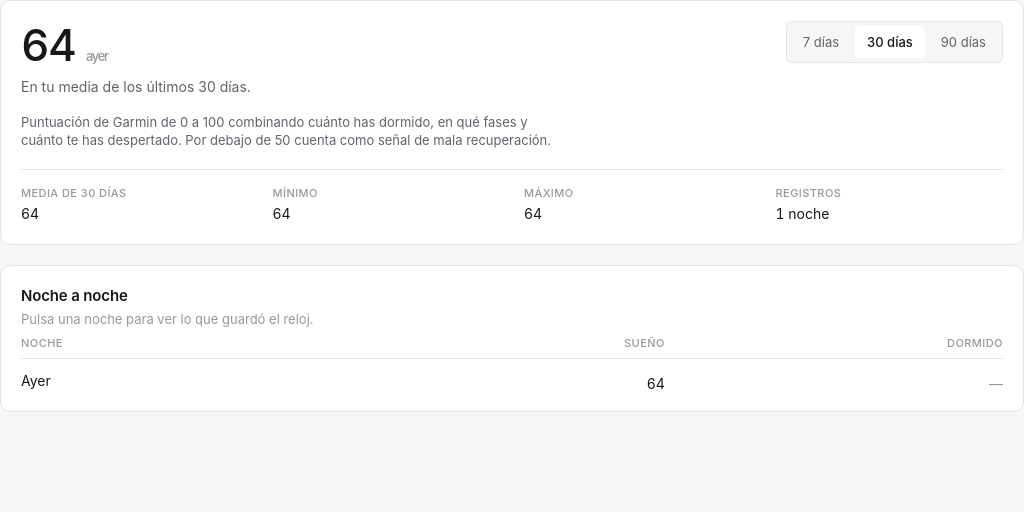
Test case: MetricaDetalle › una noche con puntuación pero sin fases lo dice, en vez de dibujar cuatro fases a cero
Click the button named "ver el detalle de la noche". click: (36, 381)
box: x1=21 y1=371 x2=51 y2=391
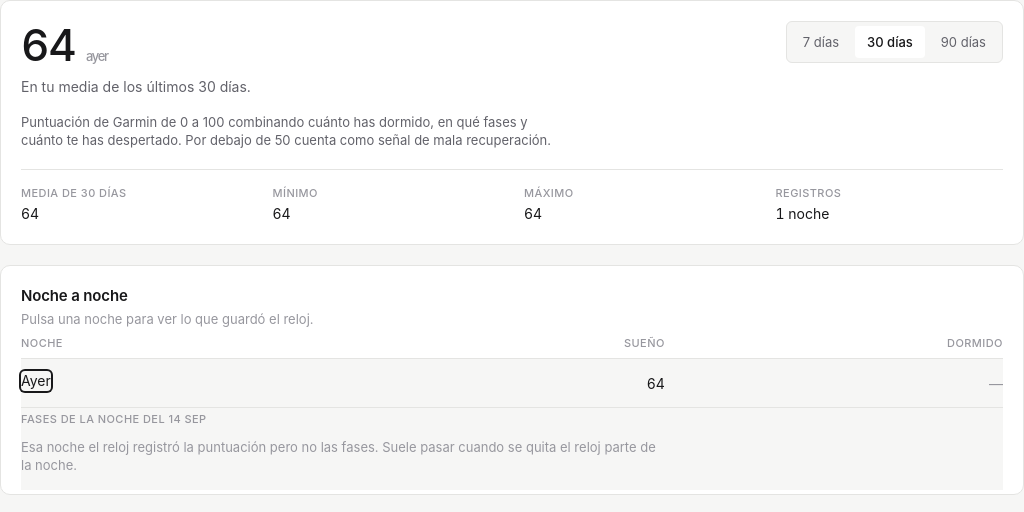
Expected: the text "registró la puntuación pero no las fases" is shown, x1=21 y1=439 x2=656 y2=473
